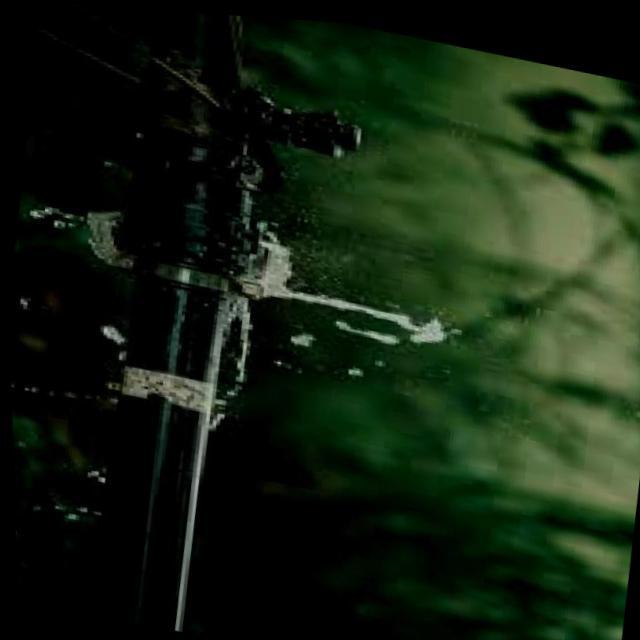leak: (232, 232, 446, 341), (88, 214, 132, 268)
